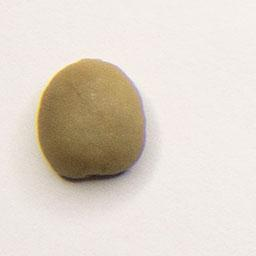premium: (33, 57, 149, 183)
